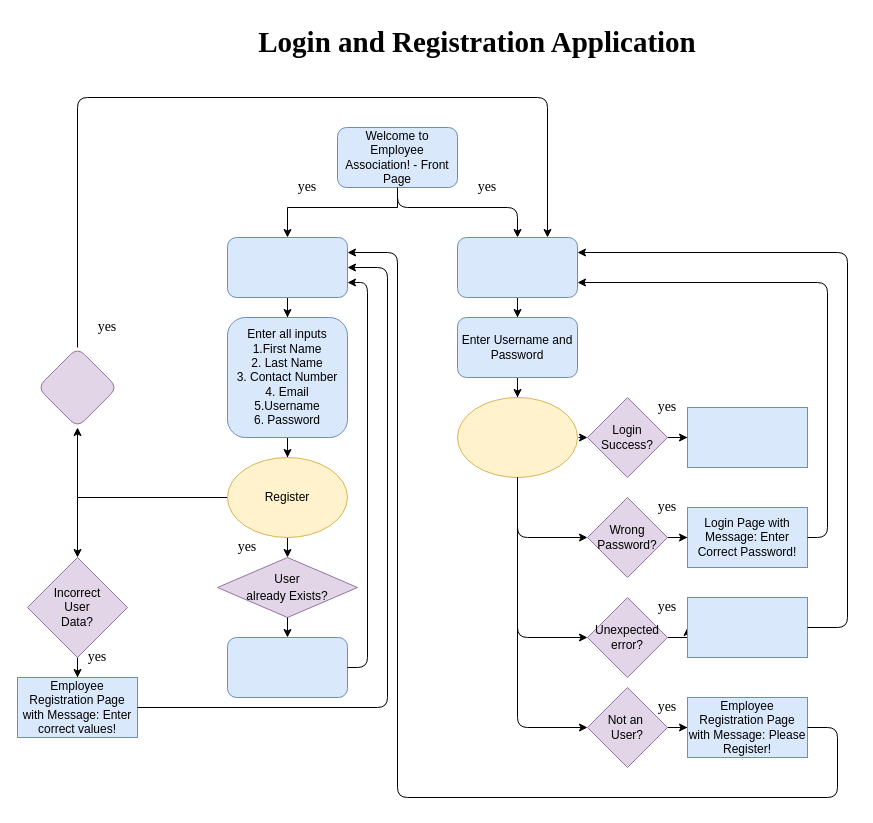
The diagram is 873 pixels wide and 823 high, and some of its shapes have lost their labels. The centre of each missing label's shape, as x and y in pixels:
Employee Login: (x=517, y=267)
Employee Registration: (x=287, y=267)
Employee Registration Page with Message: Enter different username!: (x=287, y=667)
Login: (x=517, y=437)
Login Page with message: Unexpected Error!: (x=747, y=627)
Login-Success Page Welcome to Association!: (x=747, y=437)
User Saved?: (x=77, y=387)
